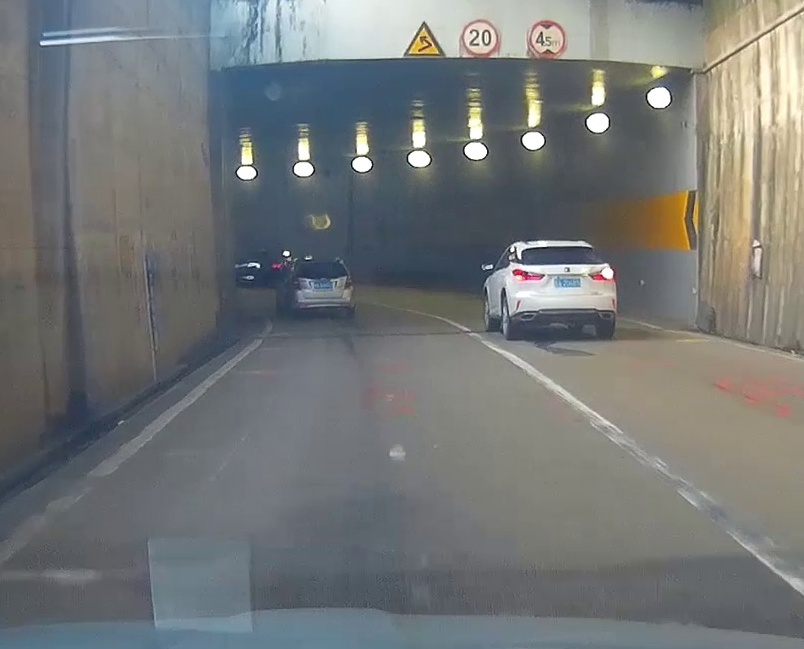L_light: (511, 268, 547, 282)
R_light: (588, 266, 614, 282)
T_light: (552, 246, 568, 250)
day-right: (506, 238, 616, 341)
